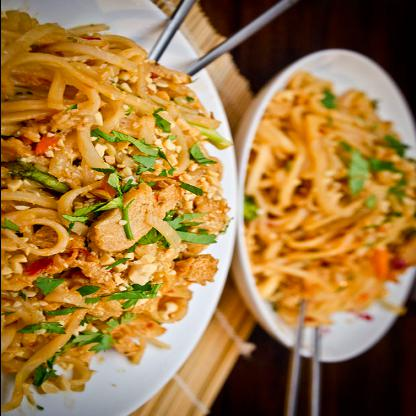Pad Thai: (1, 0, 240, 398), (244, 46, 415, 343)
